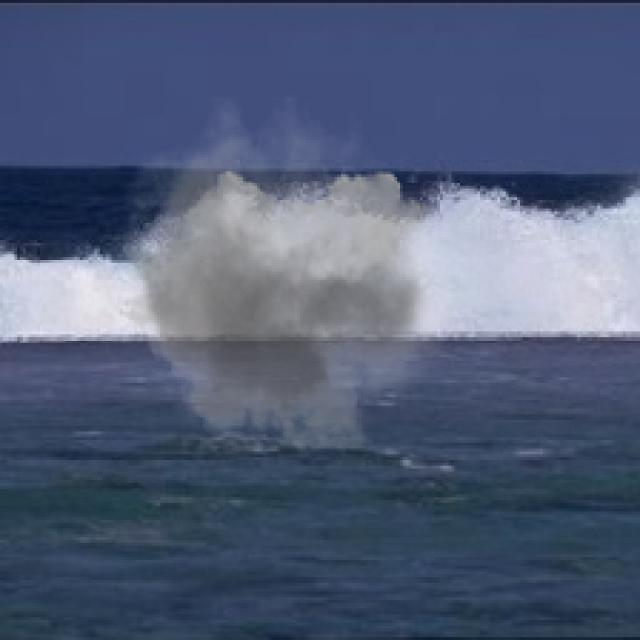smoke: (106, 94, 454, 472)
